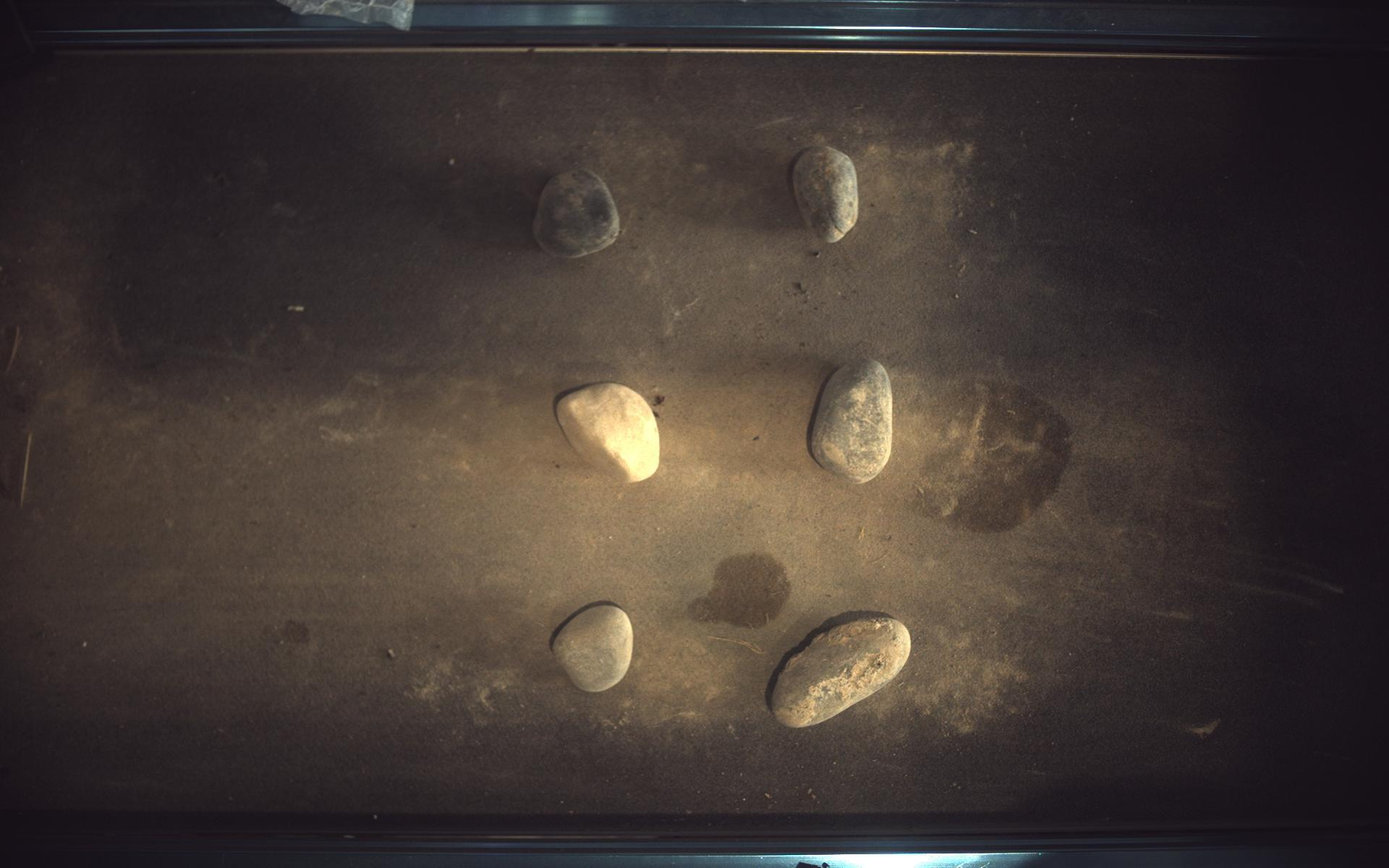stone: (773, 618, 912, 728), (556, 383, 660, 483), (812, 358, 894, 483), (533, 169, 620, 258), (550, 602, 634, 694), (794, 145, 859, 242)
